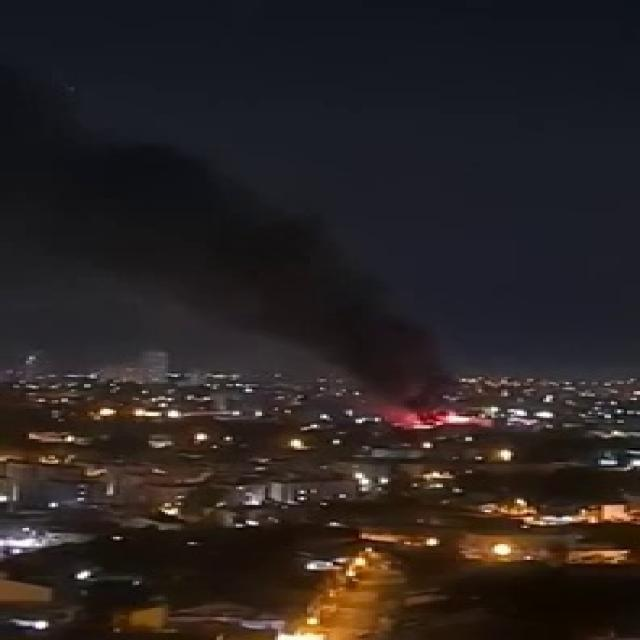Fire: (391, 408, 474, 436)
Smoke: (2, 64, 488, 398)
